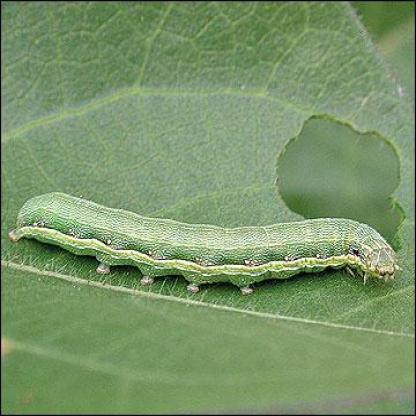armyworm: (12, 188, 415, 303)
